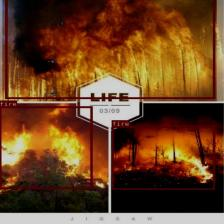fire: (5, 0, 214, 99), (0, 106, 92, 189), (111, 126, 215, 189)
